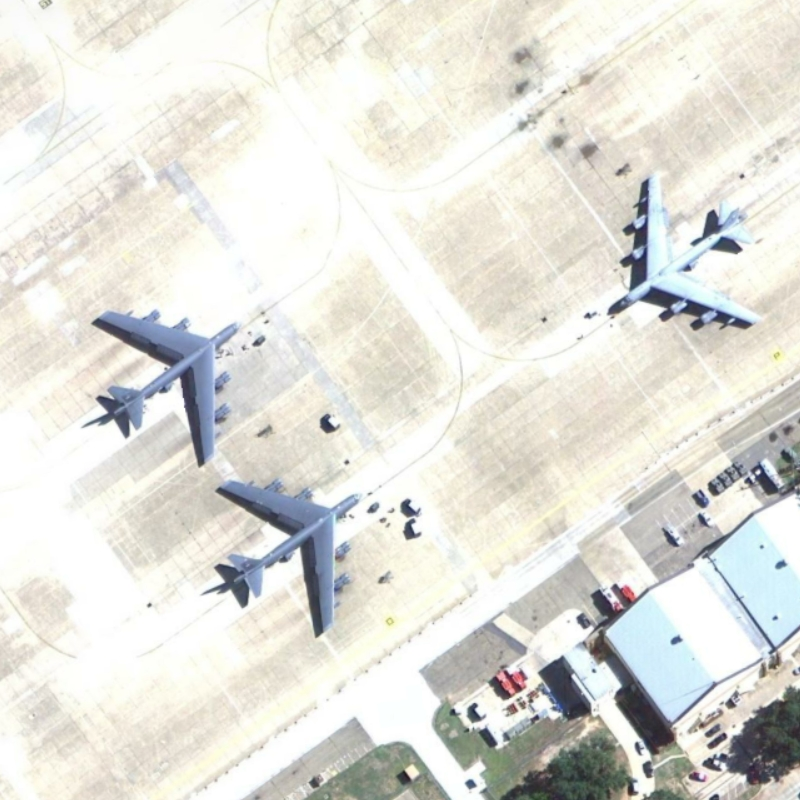A8: (603, 164, 765, 342), (83, 301, 246, 473), (209, 472, 364, 637)
